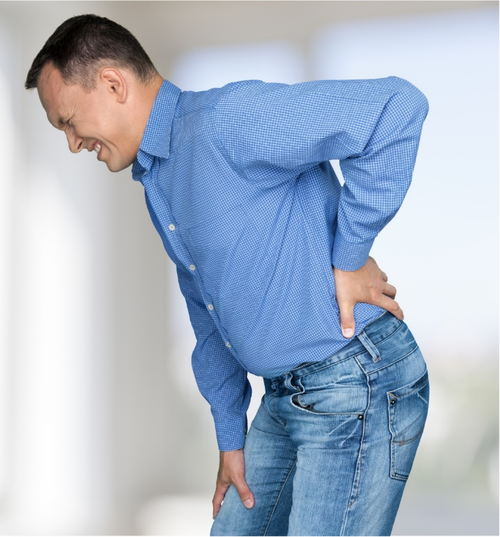bending: (14, 7, 442, 537)
